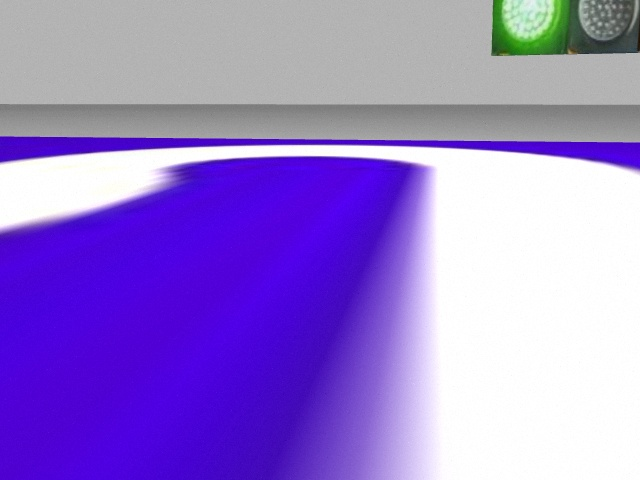green: (492, 1, 568, 56)
